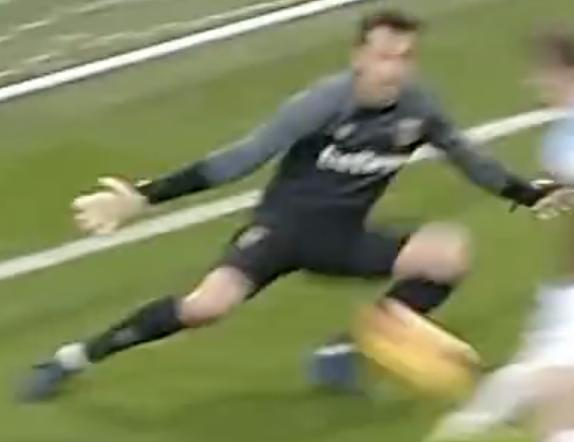goalkeeper: (13, 10, 574, 417)
